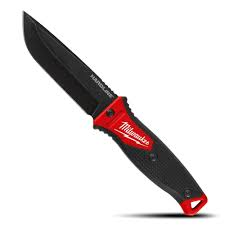knife: (17, 7, 213, 221)
